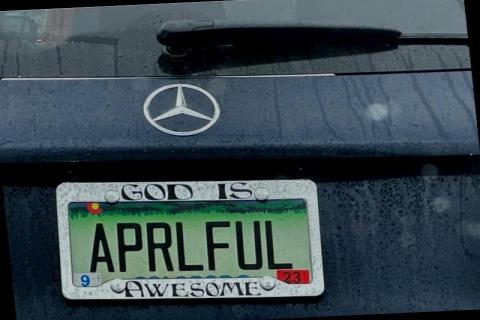LicensePlate: (54, 177, 324, 301)
